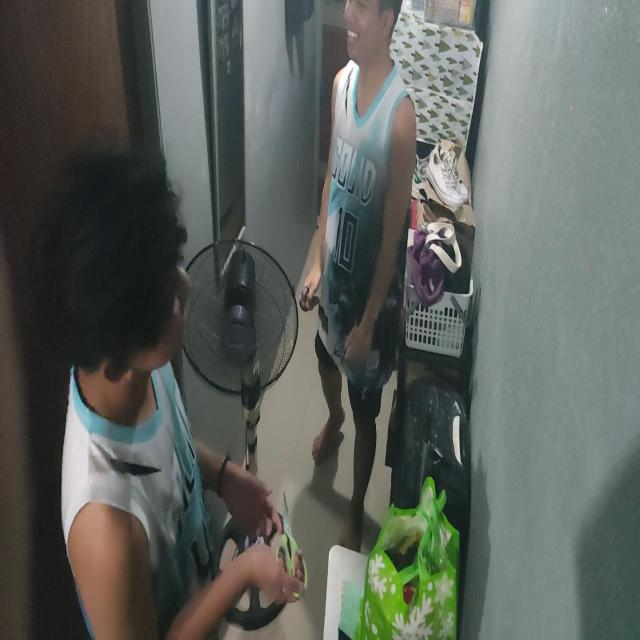scissor: (272, 491, 308, 602)
